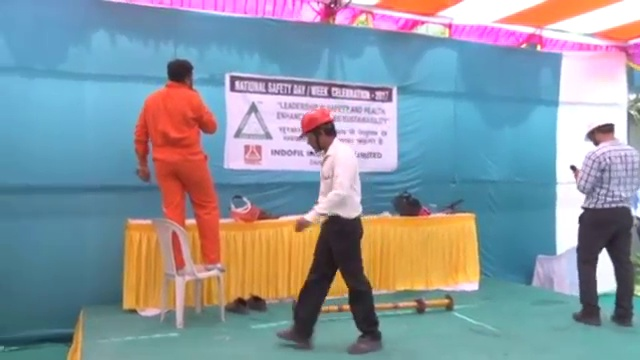helmet: (297, 110, 333, 134), (580, 113, 614, 138)
helmet_off: (164, 58, 197, 89)
helmet_on: (295, 108, 338, 155), (579, 113, 618, 148)
person: (276, 107, 384, 355), (131, 58, 228, 276), (571, 113, 637, 332)
